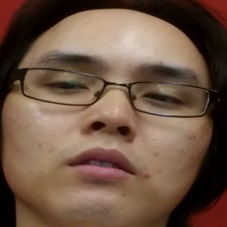drowsy: (32, 39, 204, 199)
